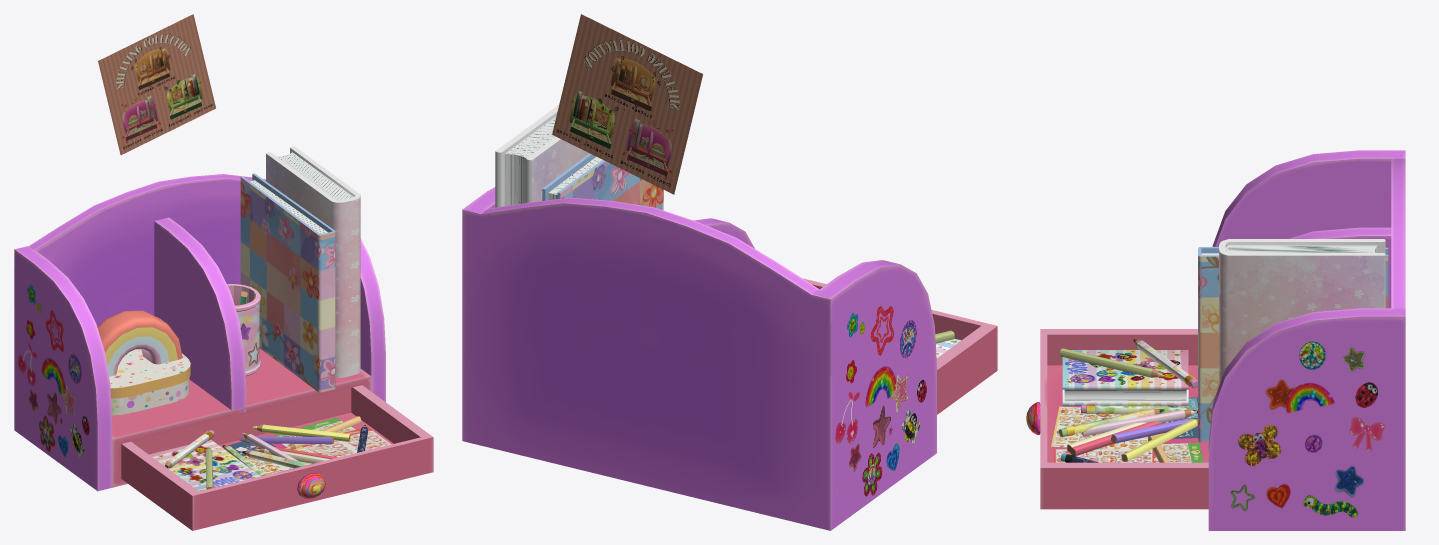
Rendered from Creative Shelving.fbx.
3 views of the same model, side by side, from view 1: azimuth 30°, elevation 25°; view 2: azimuth 150°, elevation 25°; view 3: azimuth 270°, elevation 25° (orthographic). The views are drawn at different scales.
Parts seen in each view (by area): view 1: Shlf_spprt, Drwr_shlf, Fldr_A5, Publicity_Shlfs, Bk_A4, Shlf, Sutcase_mn, Rnbw_Adrn, Bk_A5, Cut_cn, Stcker2, Pncl_Clr_06 (+4 smaller); view 2: Shlf_spprt, Publicity_Shlfs, Bk_A4, Drwr_shlf, Fldr_A5; view 3: Shlf_spprt, Bk_A4, Drwr_shlf, Bk_A5, Fldr_A5, Stckr1, Stcker2, Pncl_Clr_07, Pncl_Clr_010, Stckrs, Pncl_Clr_06, Pncl_08 (+5 smaller).
Part boxes in pixels (bbox=[...]): Shlf_spprt: bbox=[14, 174, 385, 491]; Drwr_shlf: bbox=[121, 385, 433, 530]; Fldr_A5: bbox=[240, 173, 335, 392]; Publicity_Shlfs: bbox=[98, 14, 215, 154]; Bk_A4: bbox=[266, 146, 360, 377]; Shlf: bbox=[112, 348, 371, 487]; Sutcase_mn: bbox=[109, 349, 190, 415]; Rnbw_Adrn: bbox=[97, 310, 182, 376]; Bk_A5: bbox=[149, 439, 260, 491]; Cut_cn: bbox=[227, 284, 260, 376]; Stcker2: bbox=[302, 427, 391, 457]; Pncl_Clr_06: bbox=[252, 424, 350, 441]; Shlf_spprt: bbox=[462, 187, 936, 530]; Publicity_Shlfs: bbox=[552, 14, 702, 194]; Bk_A4: bbox=[495, 104, 589, 207]; Drwr_shlf: bbox=[803, 278, 997, 414]; Fldr_A5: bbox=[542, 153, 663, 210]; Shlf_spprt: bbox=[1208, 150, 1405, 530]; Bk_A4: bbox=[1219, 239, 1385, 385]; Drwr_shlf: bbox=[1040, 329, 1208, 509]; Bk_A5: bbox=[1062, 350, 1188, 405]; Fldr_A5: bbox=[1198, 247, 1388, 442]; Stckr1: bbox=[1051, 406, 1166, 449]; Stcker2: bbox=[1054, 449, 1164, 462]; Pncl_Clr_07: bbox=[1059, 348, 1164, 377]; Pncl_Clr_010: bbox=[1082, 410, 1196, 436]; Stckrs: bbox=[1097, 442, 1203, 462]; Pncl_Clr_06: bbox=[1121, 418, 1197, 461]; Pncl_08: bbox=[1081, 404, 1197, 414].
Bounding box in the file's own units: 800 × 967 × 810.
31 materials, 31 textured.
